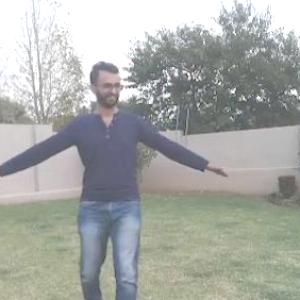land: (1, 42, 242, 299)
